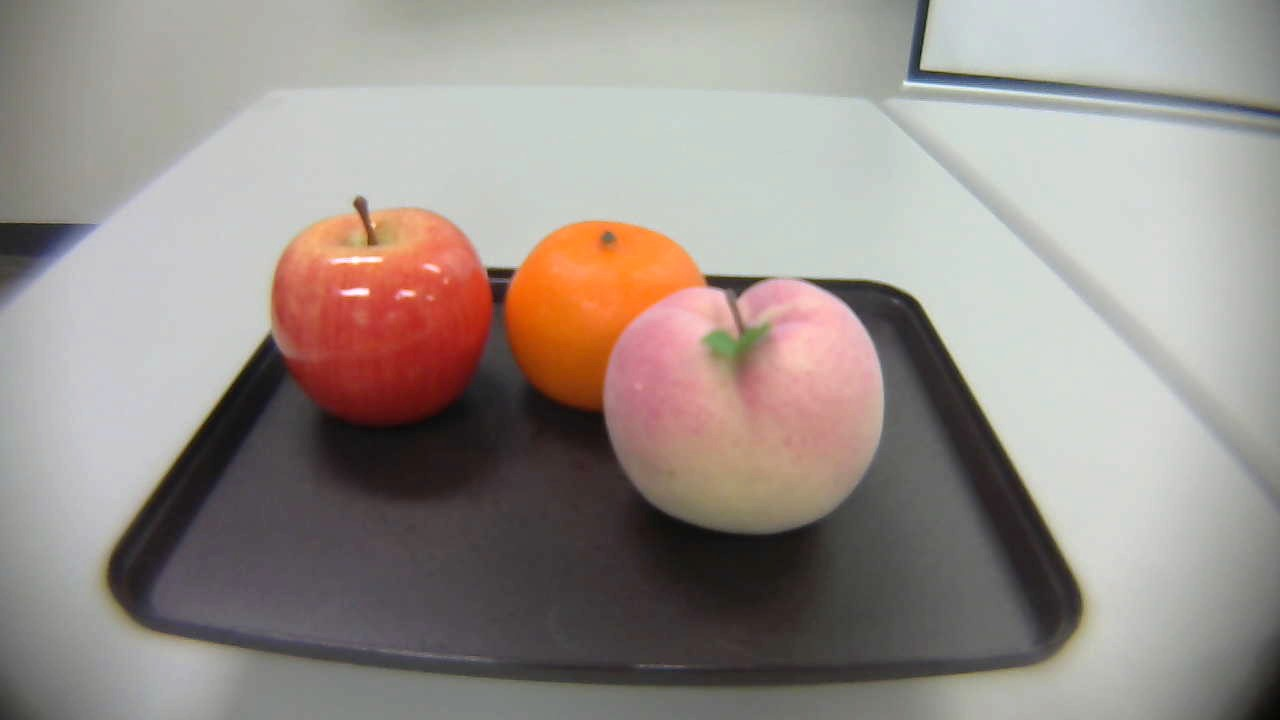orange: (497, 211, 705, 419)
peach: (599, 284, 893, 543)
red apple: (267, 193, 504, 430)
